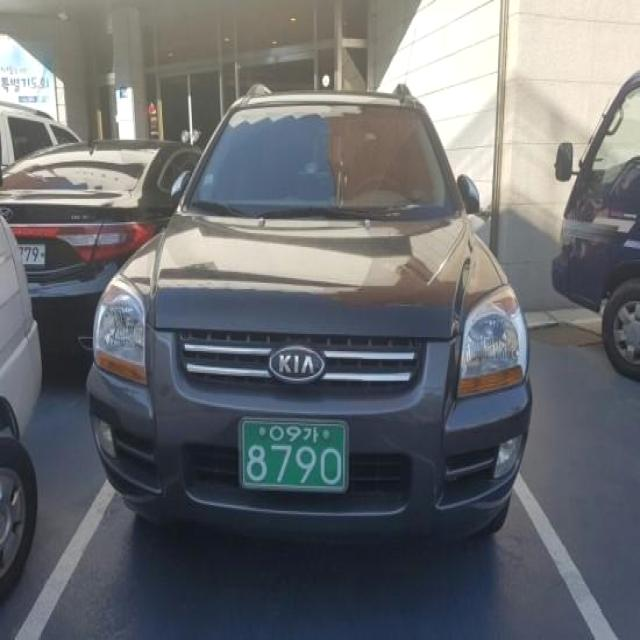car: (82, 79, 537, 548)
illegal_plate: (238, 404, 355, 504)
